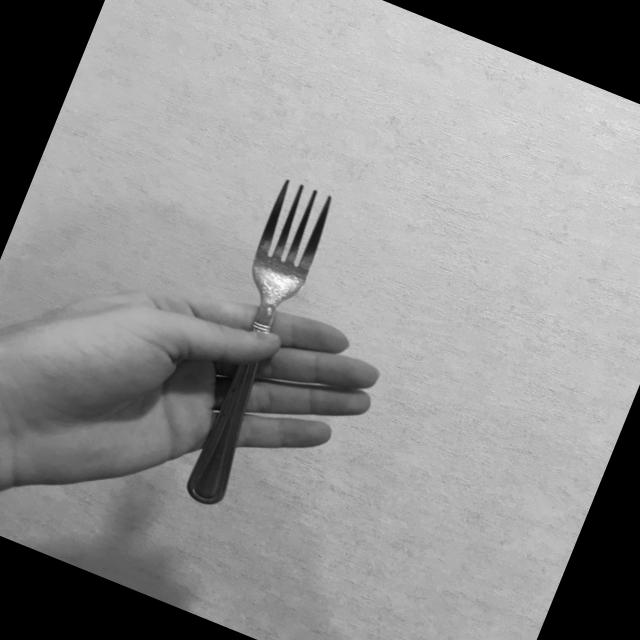fork: (156, 173, 344, 511)
